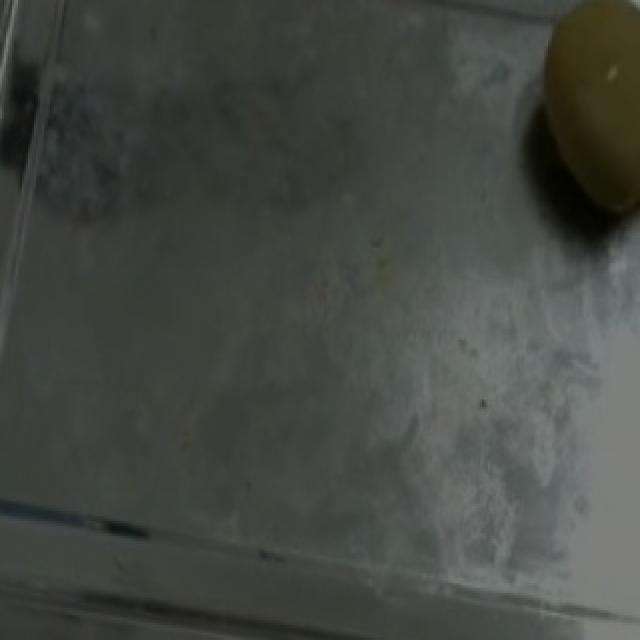Fruit: (508, 0, 640, 248)
